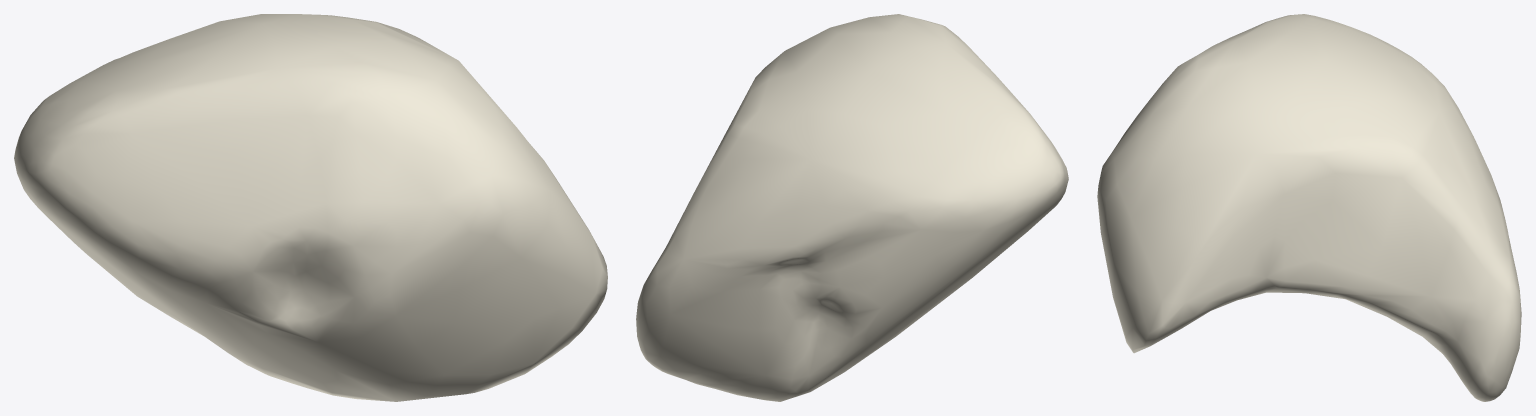
The picture shows the model from 3 angles, left to right: view 1: azimuth 30°, elevation 25°; view 2: azimuth 150°, elevation 25°; view 3: azimuth 270°, elevation 25°; orthographic projection. The views are drawn at different scales.
Visible parts, largest first — view 1: ZA_e7aadf98df598ea0; view 2: ZA_e7aadf98df598ea0; view 3: ZA_e7aadf98df598ea0.
Boxes of the visible parts, left/top/right/bottom form: ZA_e7aadf98df598ea0: left=14, top=14, right=607, bottom=401; ZA_e7aadf98df598ea0: left=636, top=14, right=1068, bottom=401; ZA_e7aadf98df598ea0: left=1097, top=14, right=1521, bottom=401.
Size of the model in its own units: 0.0171 by 0.0127 by 0.0166.
